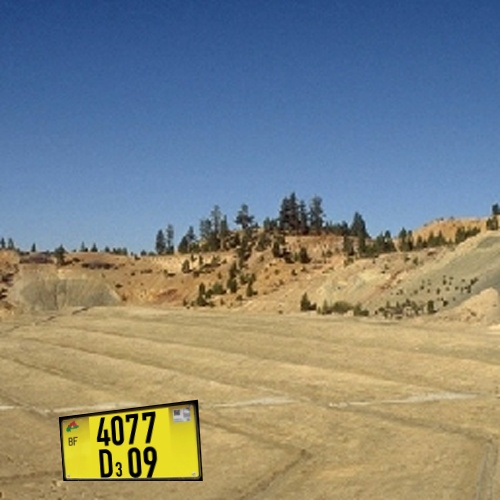plate: (47, 374, 227, 497)
